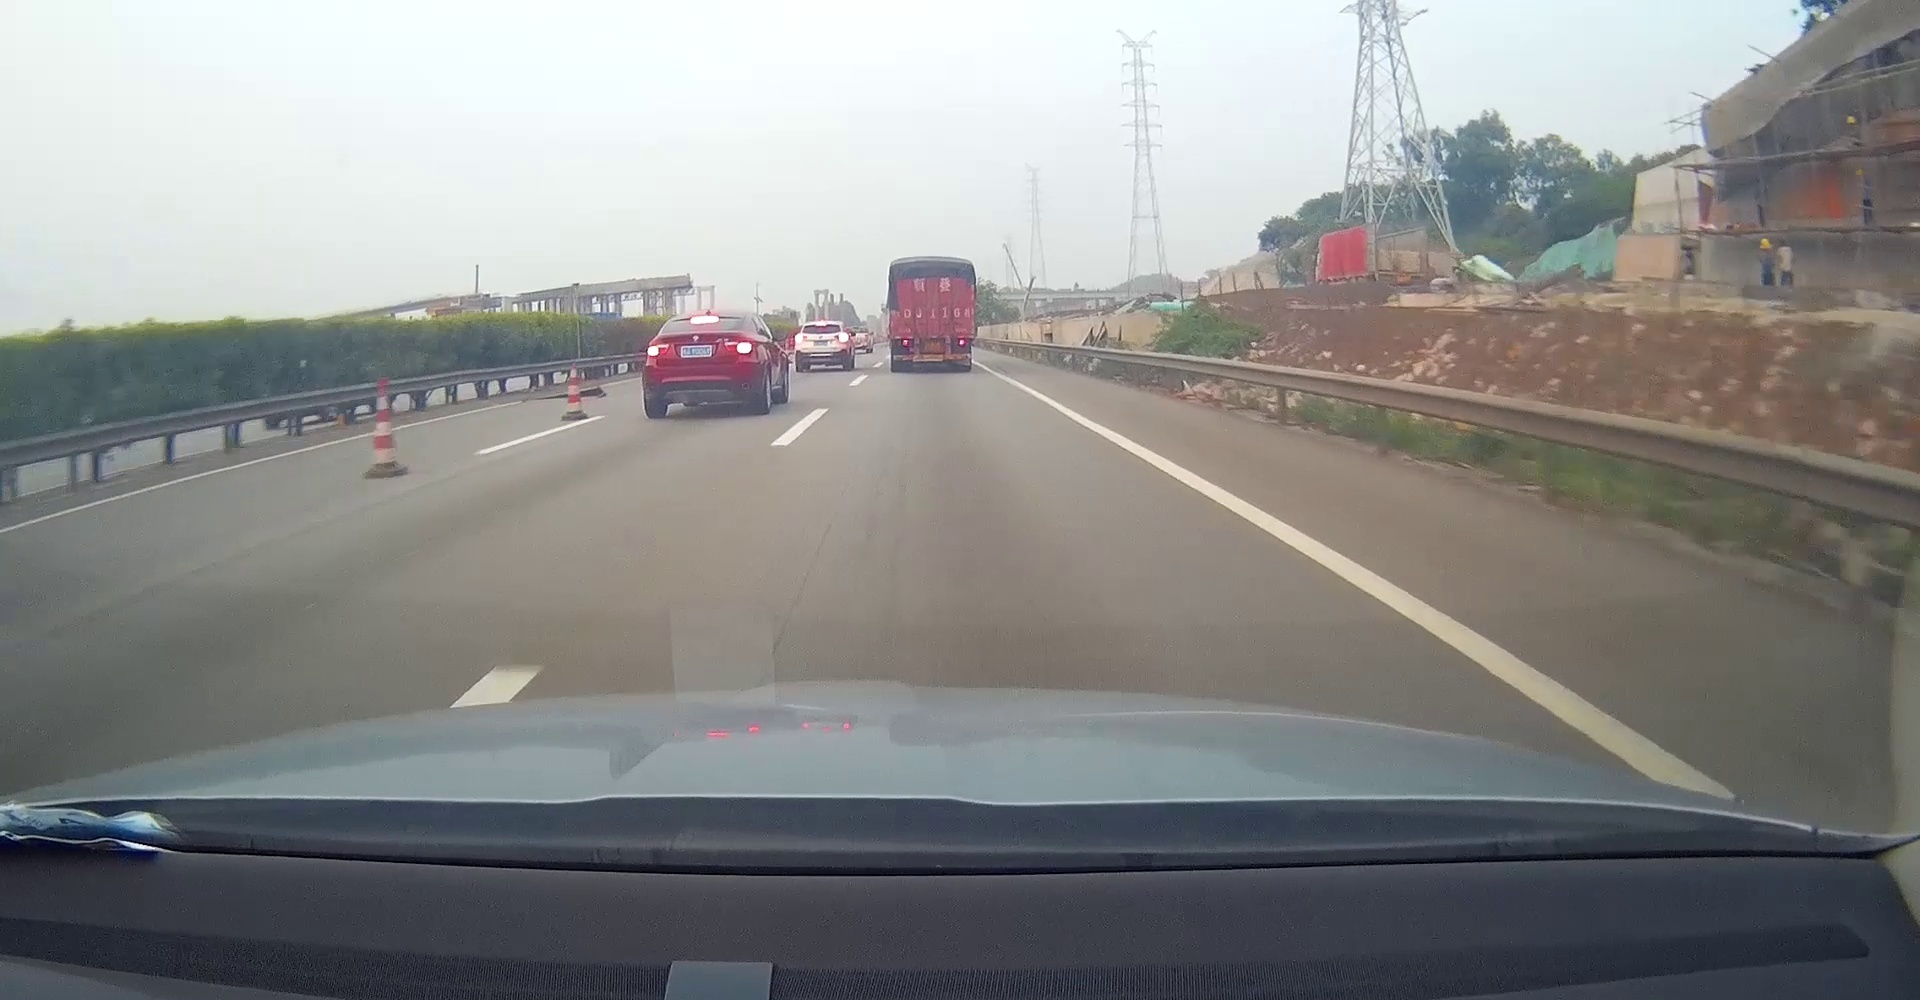L_light: (648, 344, 669, 357), (795, 335, 808, 343), (898, 340, 913, 346)
R_light: (725, 341, 752, 354), (836, 334, 850, 341), (955, 339, 968, 346)
T_light: (690, 316, 719, 324), (926, 261, 938, 266), (817, 324, 825, 326)
day-brake: (643, 310, 757, 418), (888, 256, 977, 371), (794, 320, 850, 372)
